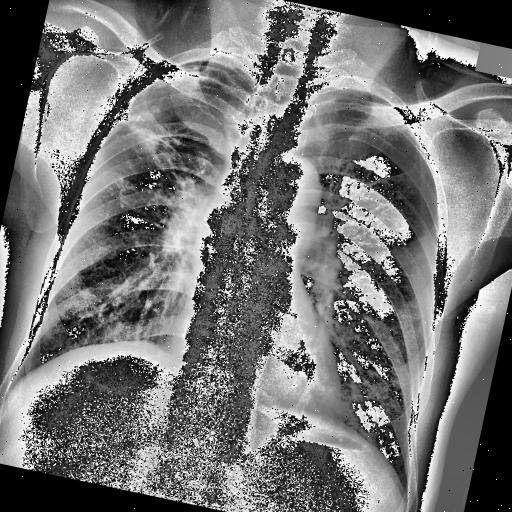0- Aortic enlargement: (252, 151, 326, 232), (254, 146, 326, 217)
13- Pulmonary fibrosis: (99, 96, 220, 232), (96, 65, 198, 213), (112, 108, 186, 170), (100, 174, 162, 221)
